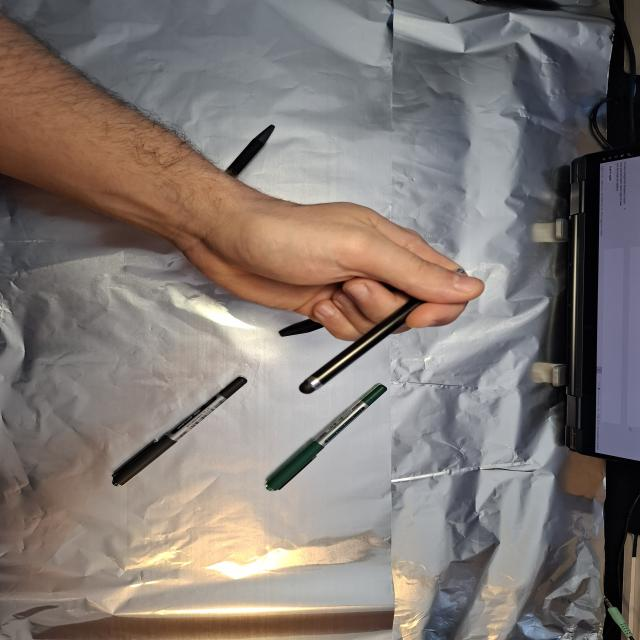glove_off: (166, 189, 487, 344)
